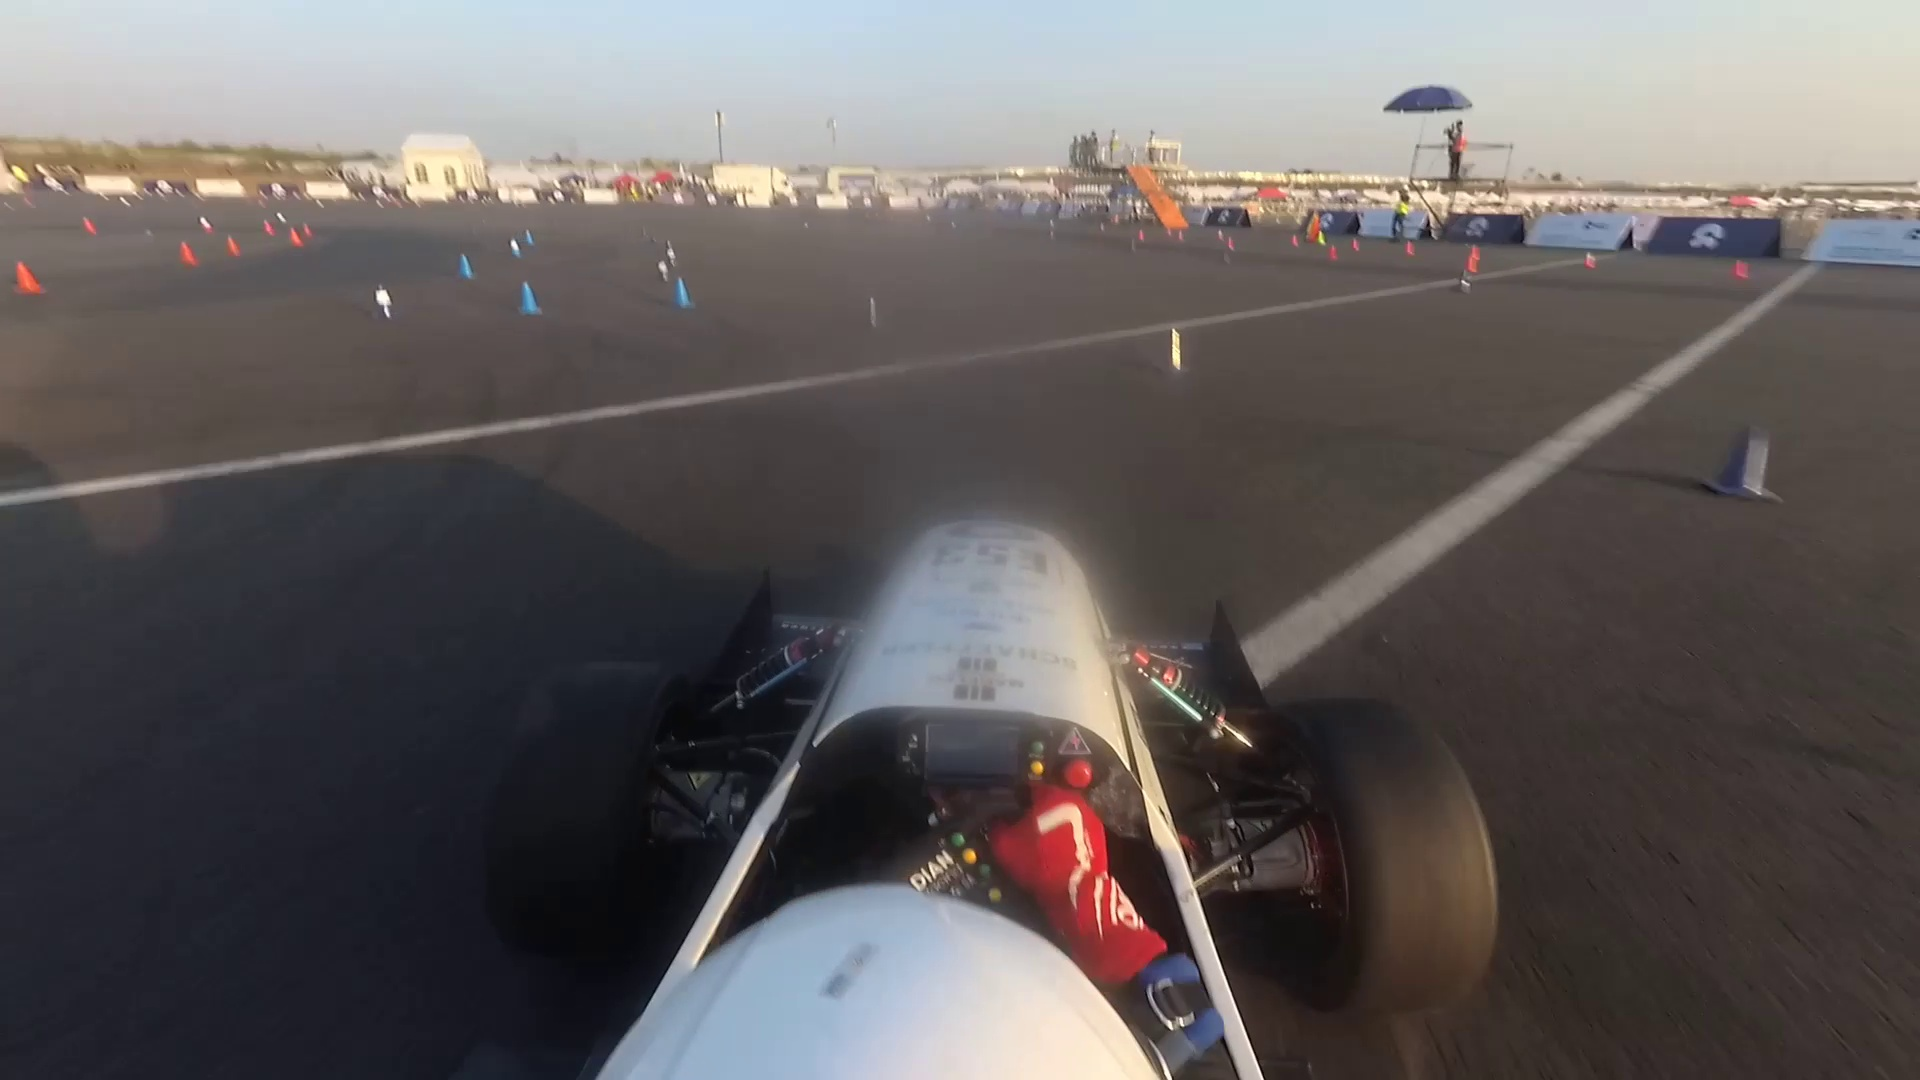blue_cone: (1695, 429, 1787, 504), (1155, 331, 1196, 372), (4, 258, 47, 297), (361, 282, 398, 323), (11, 258, 47, 299), (516, 282, 545, 315), (665, 280, 696, 309), (858, 298, 885, 328), (174, 243, 200, 269), (219, 233, 247, 256), (454, 252, 473, 278), (1455, 272, 1476, 293), (653, 258, 670, 280), (287, 228, 306, 247), (80, 215, 98, 235), (301, 218, 316, 237), (520, 228, 534, 245), (198, 215, 211, 233), (261, 216, 273, 236), (508, 240, 521, 257), (665, 248, 675, 264), (1221, 252, 1232, 268), (1047, 218, 1058, 232), (1127, 237, 1135, 255), (1098, 223, 1106, 233), (1047, 231, 1055, 241)
red_cone: (1466, 243, 1486, 264), (1580, 251, 1600, 270), (1731, 261, 1750, 282), (1462, 256, 1481, 274), (1404, 240, 1416, 258), (1327, 247, 1338, 262), (1350, 237, 1360, 255), (1288, 233, 1300, 247), (1175, 229, 1187, 243), (1215, 227, 1222, 243), (1226, 237, 1234, 251), (1137, 229, 1145, 243)
